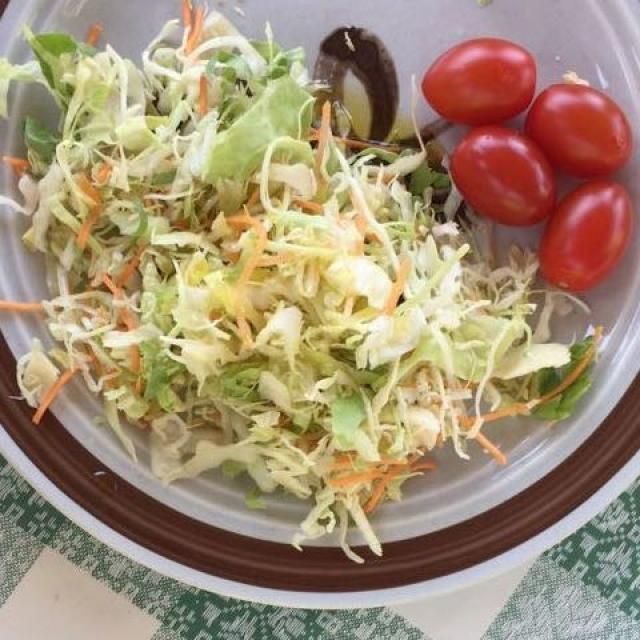coleslaw: (23, 22, 578, 542)
tomato: (425, 39, 627, 286)
